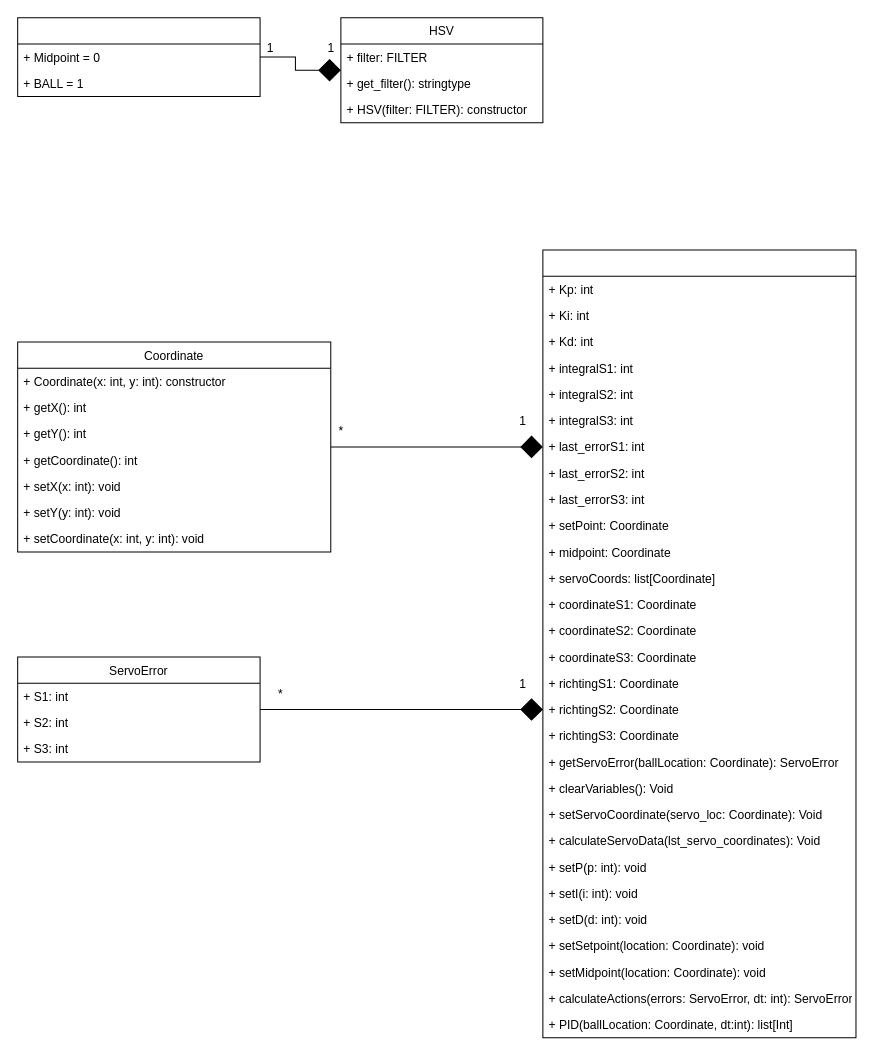
Image size: 874x1058. Some labels were removed from this diagram. Each missing label, with the box of its shape:
BalanceSystem: (542, 249, 856, 1038)
FILTER: Enum: (17, 17, 260, 96)
